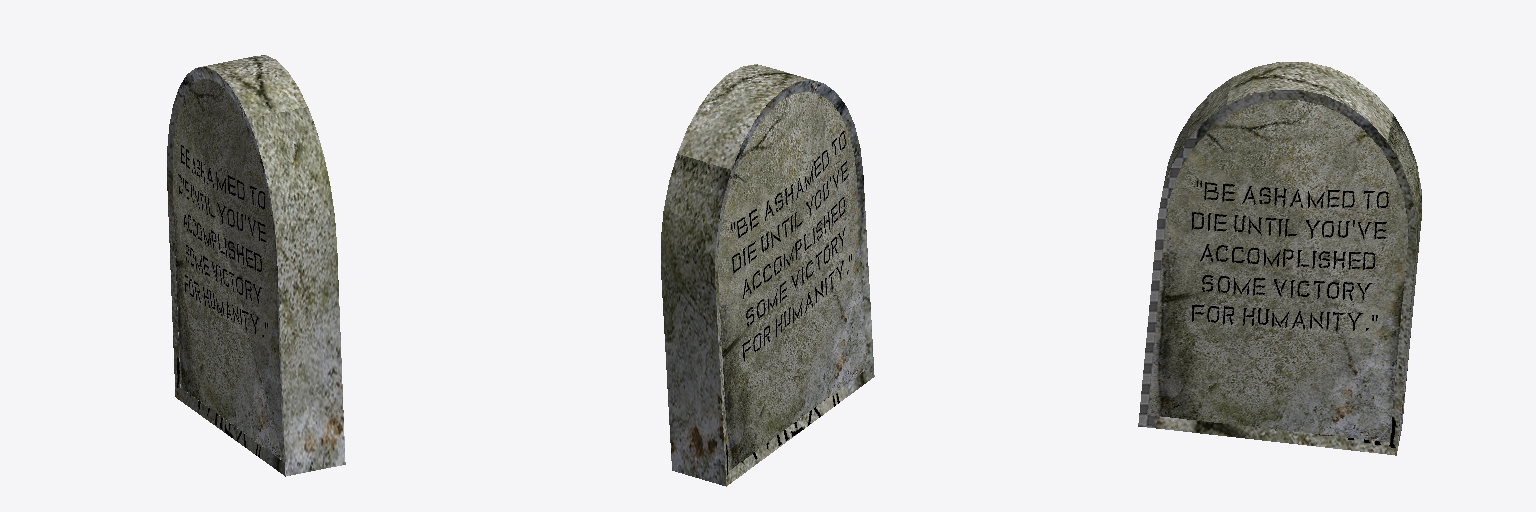
The picture shows the model from 3 angles: view 1: azimuth 30°, elevation 25°; view 2: azimuth 150°, elevation 25°; view 3: azimuth 270°, elevation 25°; orthographic projection.
Parts seen in each view (by area): view 1: Circle.005_Circle.004, Circle.006_Circle.014; view 2: Circle.005_Circle.004, Circle.006_Circle.014; view 3: Circle.015_Circle.037, Circle.006_Circle.014.
Boxes of the visible parts, box(x1,y1,x2,y2) form: Circle.005_Circle.004: box(173, 79, 282, 460); Circle.006_Circle.014: box(167, 55, 345, 476); Circle.005_Circle.004: box(718, 92, 866, 470); Circle.006_Circle.014: box(661, 64, 874, 486); Circle.015_Circle.037: box(1148, 100, 1407, 441); Circle.006_Circle.014: box(1138, 62, 1421, 455).
Size of the model in its own units: 0.312 by 1.38 by 0.9788.
1 materials, 1 textured.